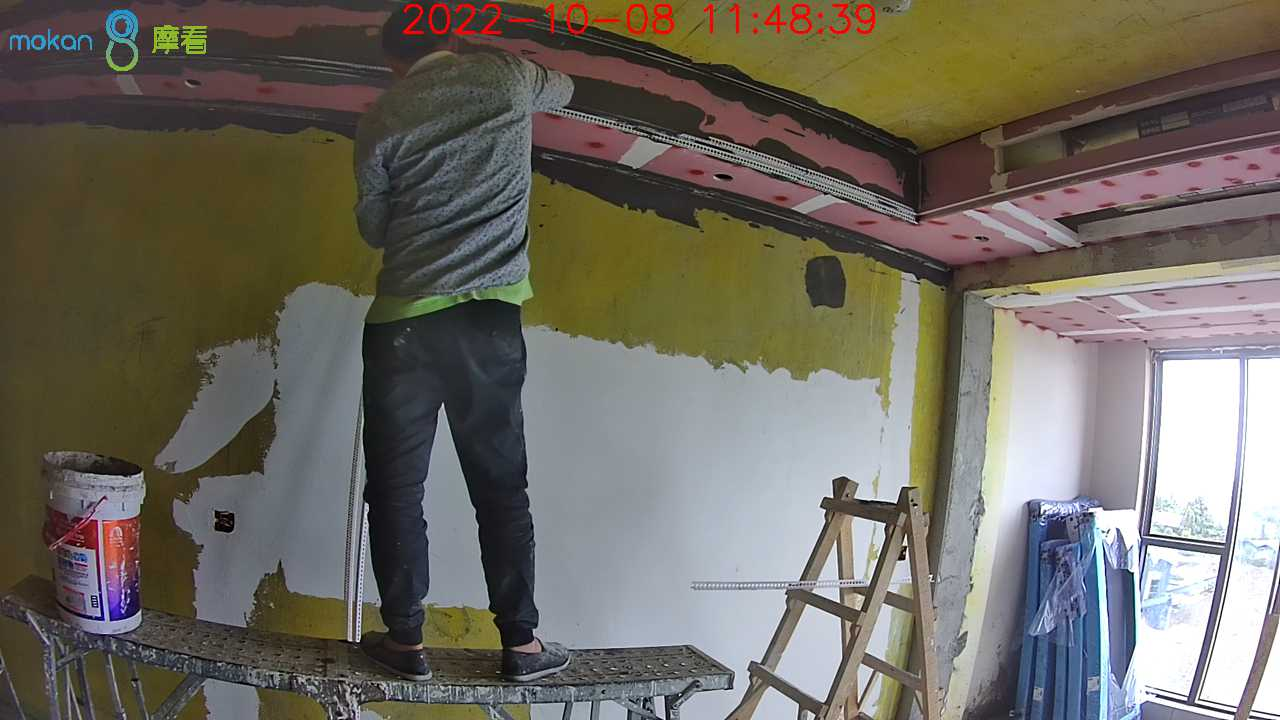people: (356, 6, 575, 681)
window: (1130, 348, 1280, 713)
